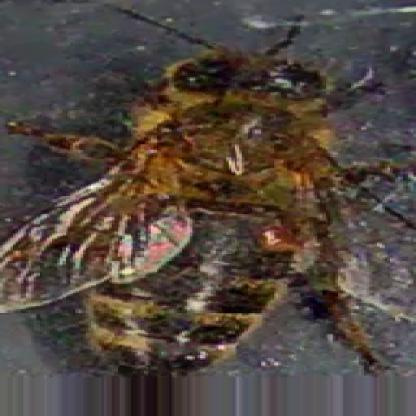bee: (82, 46, 316, 397)
vaoora: (261, 220, 302, 254)
